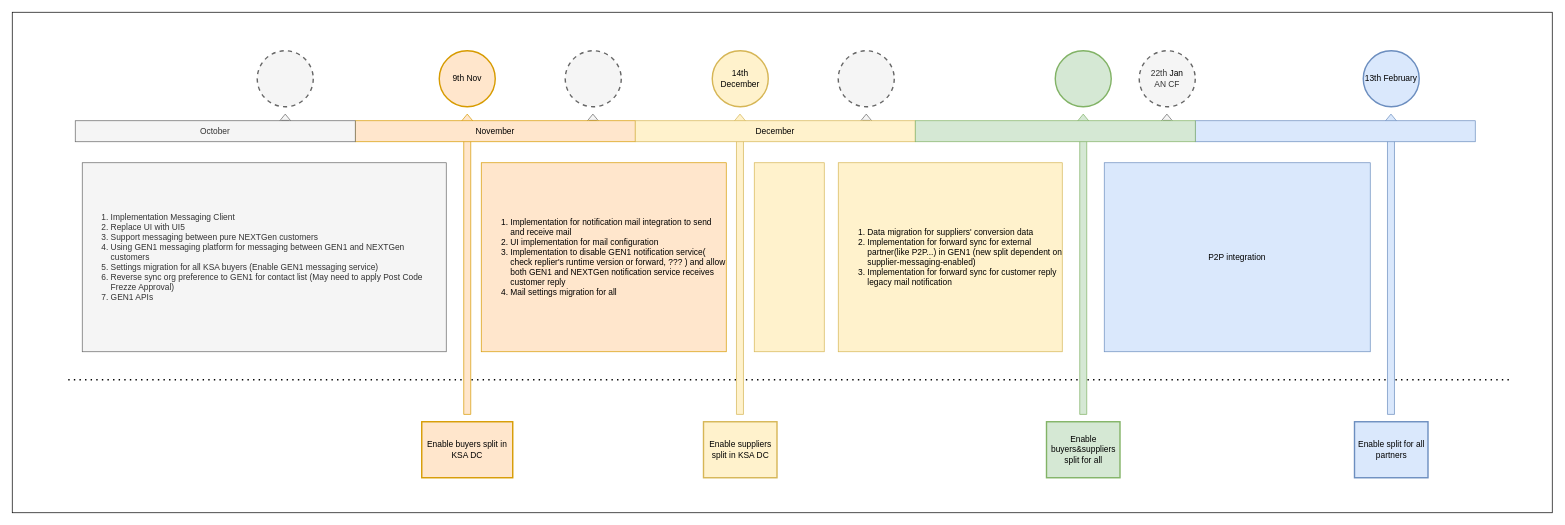
This 1565x525 diagram has some shape labels left out. The centre of each missing label's shape, as x and y in pixels:
"18th January" goes at point 1083,78.
"20th Nov AN CF" goes at point 593,78.
"23th Oct AN CF" goes at point 285,78.
"25th Dec AN CF" goes at point 866,78.
"Data migration for rest buyers settings" goes at point 789,257.
"February" goes at point 1335,131.
"January" goes at point 1055,131.
